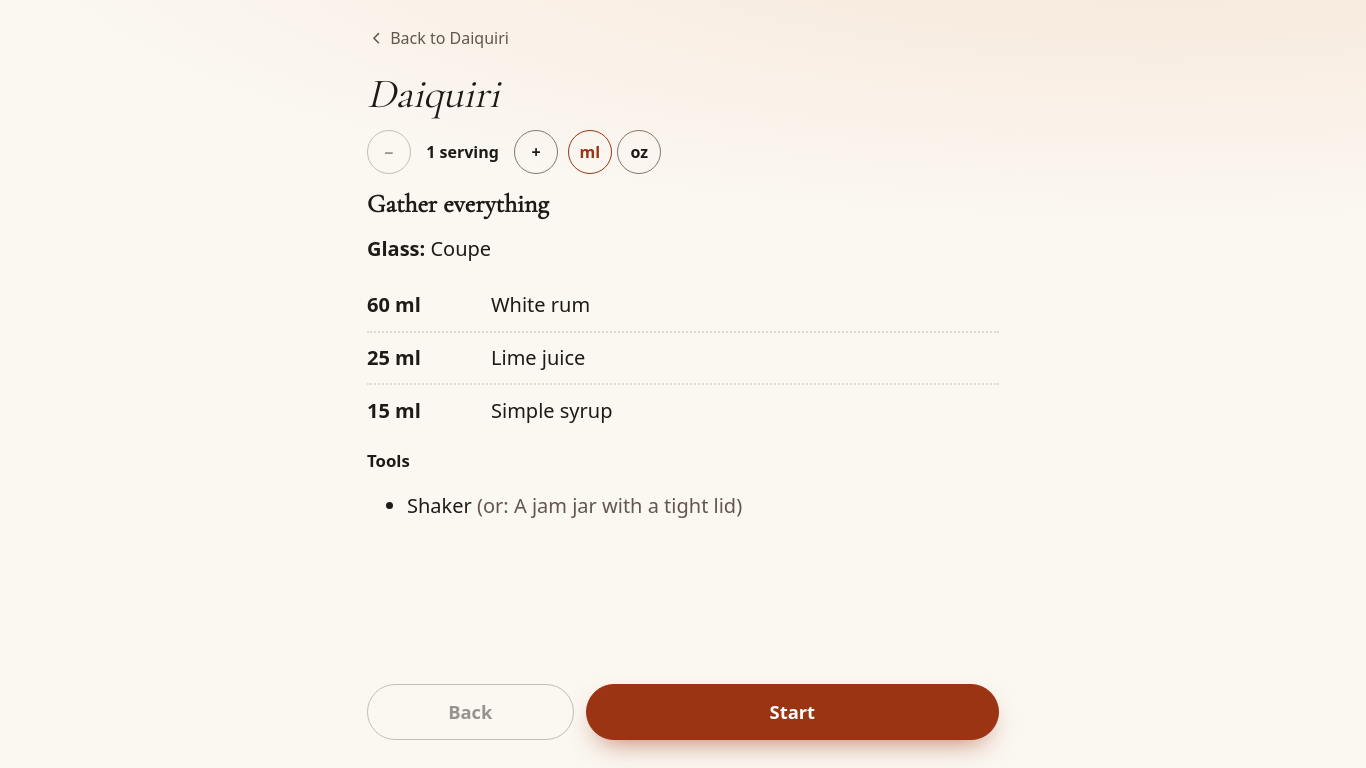
Scenario: shows one step at a time with its position
The image size is (1366, 768).
Expected: the heading "Daiquiri" is shown, 367,69 -> 499,119
Click the button "Start".
click(792, 712)  # box 586,684 -> 999,740
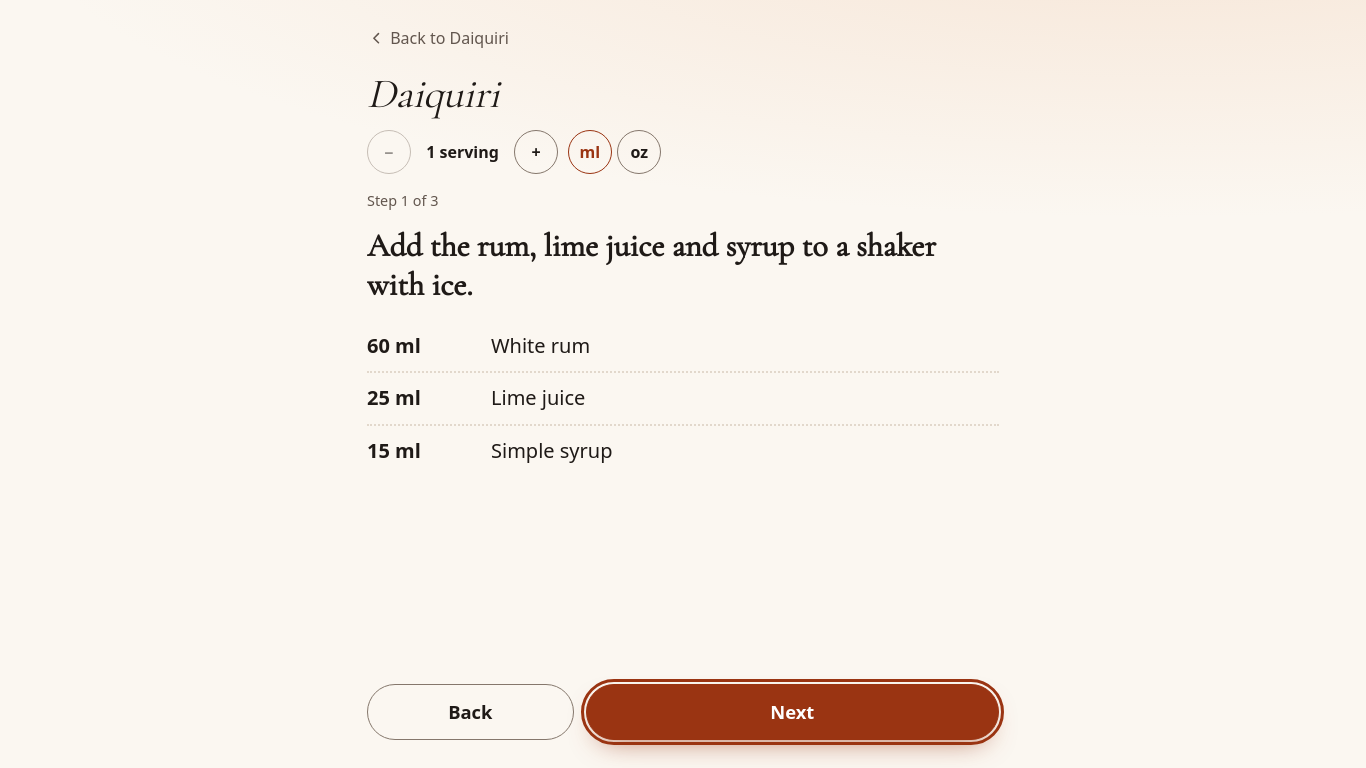
Result: the text "Step 1 of 3" is shown at 367,191 -> 438,210
Result: the text "Add the rum, lime juice and syrup to a shaker with ice." is shown at 367,227 -> 999,304
